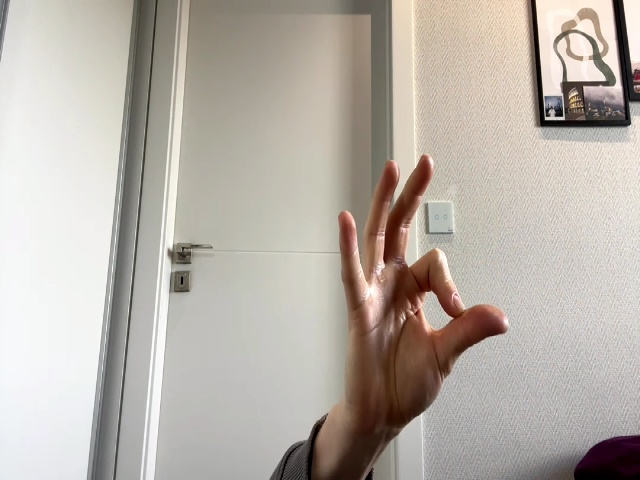S: (339, 153, 509, 418)
